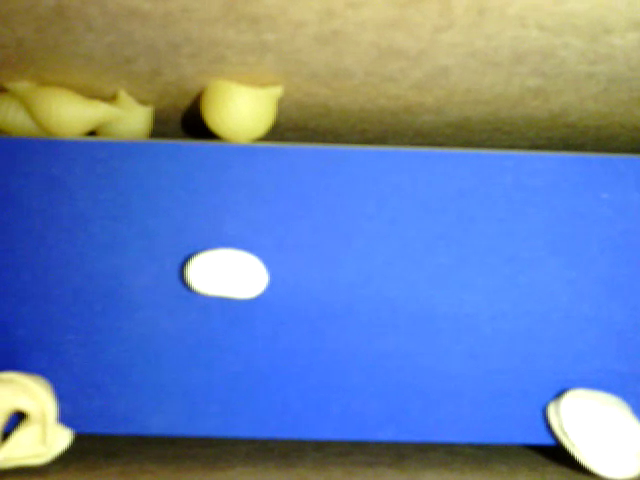shell: (1, 79, 127, 138), (195, 73, 284, 141), (86, 85, 160, 140), (1, 85, 65, 139)
tortellini: (1, 367, 73, 471)
